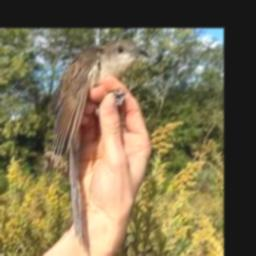Cuckoo: (49, 37, 149, 252)
